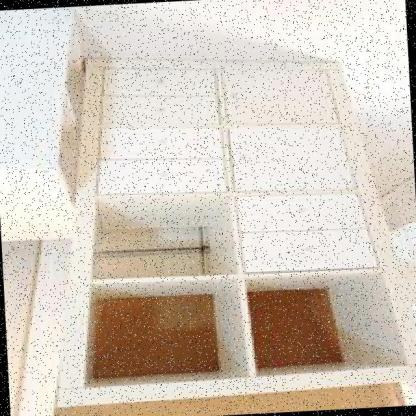Shelf: (35, 47, 416, 411)
